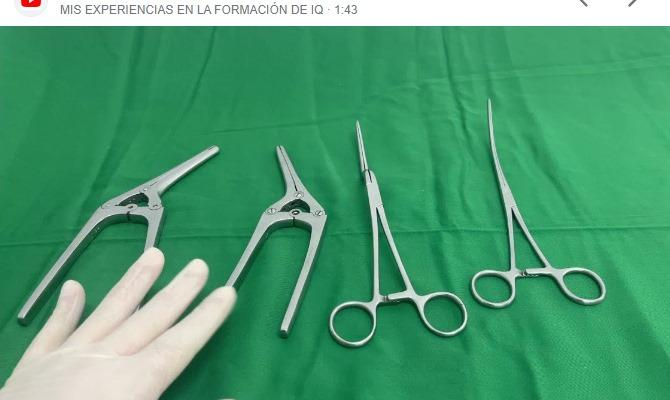Doyel Instestinal Forceps: (465, 95, 612, 327)
